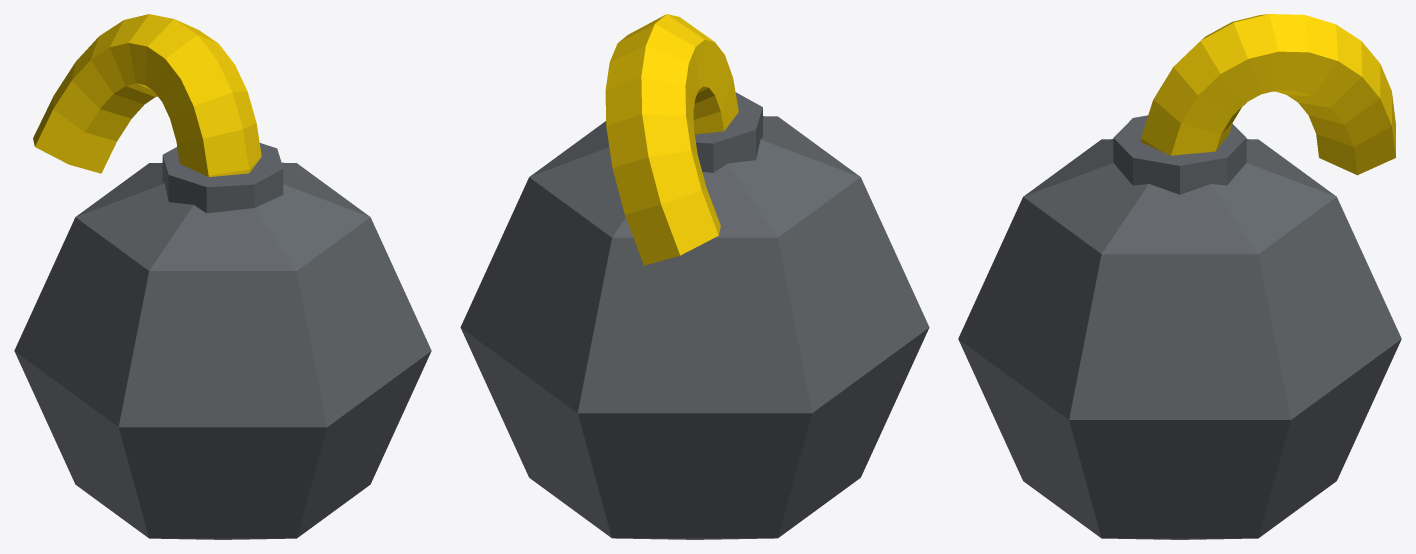
File: bomb.glb
3 renders of one model, left to right at view 1: azimuth 30°, elevation 25°; view 2: azimuth 150°, elevation 25°; view 3: azimuth 270°, elevation 25°, orthographic. The views are drawn at different scales.
Visible parts, largest first — view 1: Bomb Body, Fuse.001, Fuse Opening; view 2: Bomb Body, Fuse.001, Fuse Opening; view 3: Bomb Body, Fuse.001, Fuse Opening.
Boxes of the visible parts, x1,y1,x2,y2 form: Bomb Body: [14, 162, 431, 539]; Fuse.001: [33, 14, 261, 176]; Fuse Opening: [162, 143, 283, 213]; Bomb Body: [460, 116, 929, 539]; Fuse.001: [605, 14, 738, 265]; Fuse Opening: [694, 92, 762, 172]; Bomb Body: [958, 139, 1401, 539]; Fuse.001: [1140, 14, 1395, 175]; Fuse Opening: [1113, 115, 1246, 194].
Size of the model in its own units: 0.433 by 0.6499 by 0.5.
